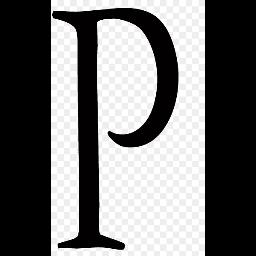p: (51, 0, 199, 256)
